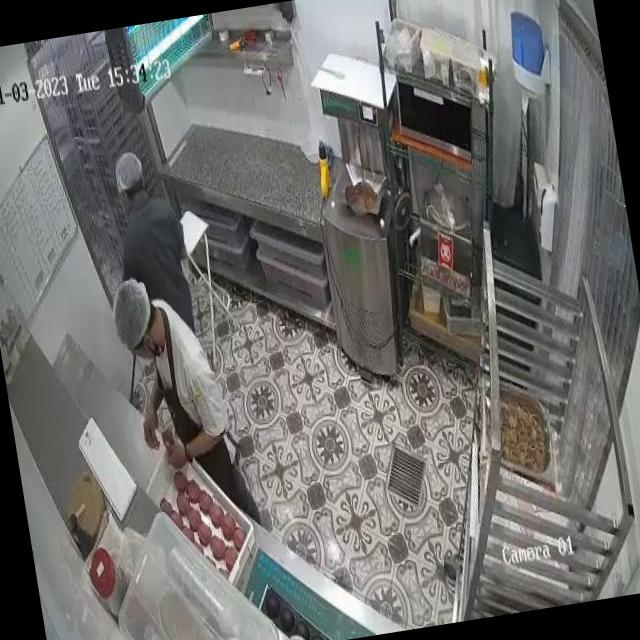hairnet: (110, 283, 151, 342), (114, 153, 145, 190)
